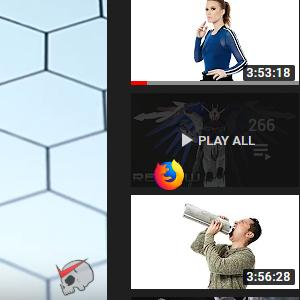firefox: (154, 159, 185, 191)
